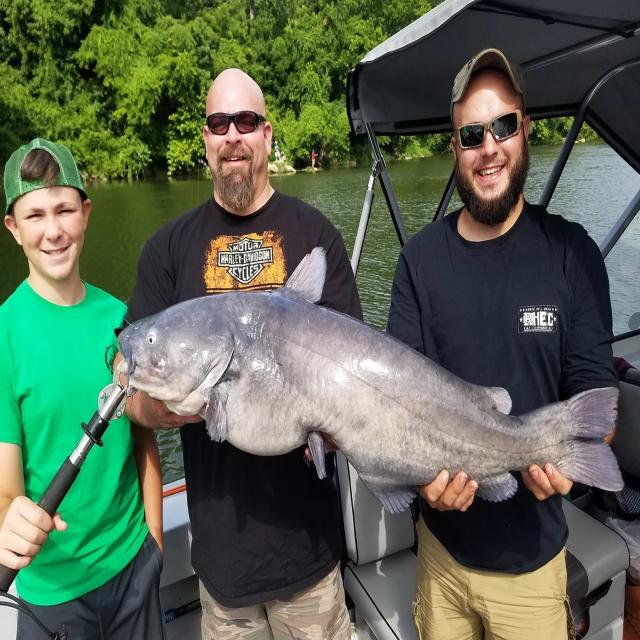Catfish - Blue: (119, 246, 622, 513)
